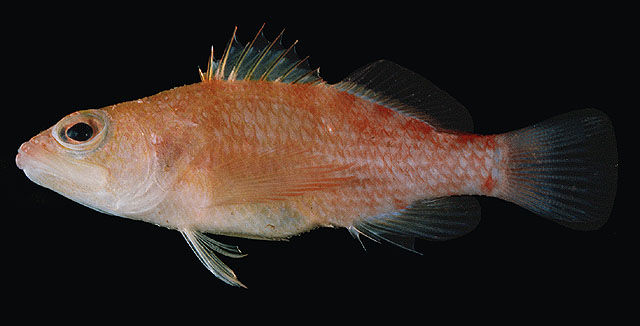fish: (15, 22, 615, 290)
